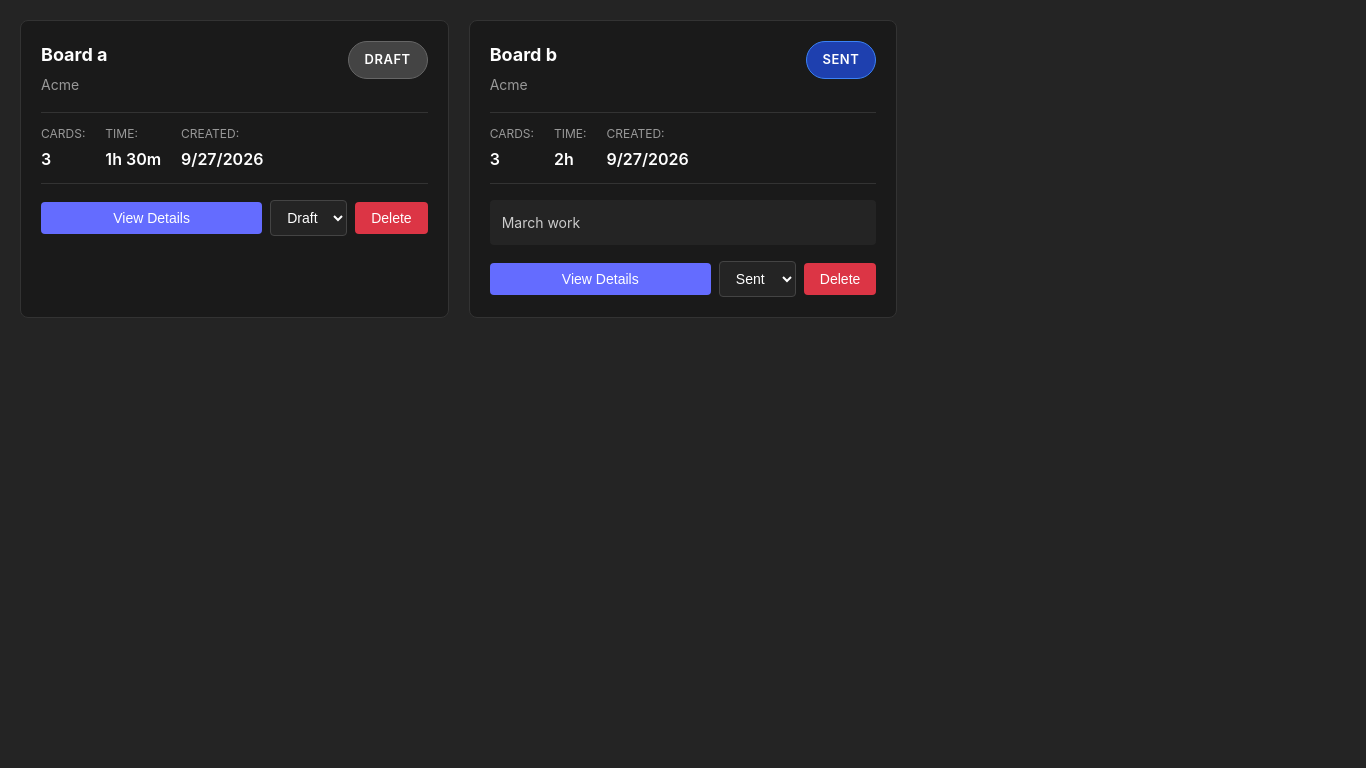
Test: InvoiceList › keeps the invoice when deletion is cancelled
Click the button "Delete" below "1h 30m" at coordinates (391, 218), box 355,202 -> 428,234
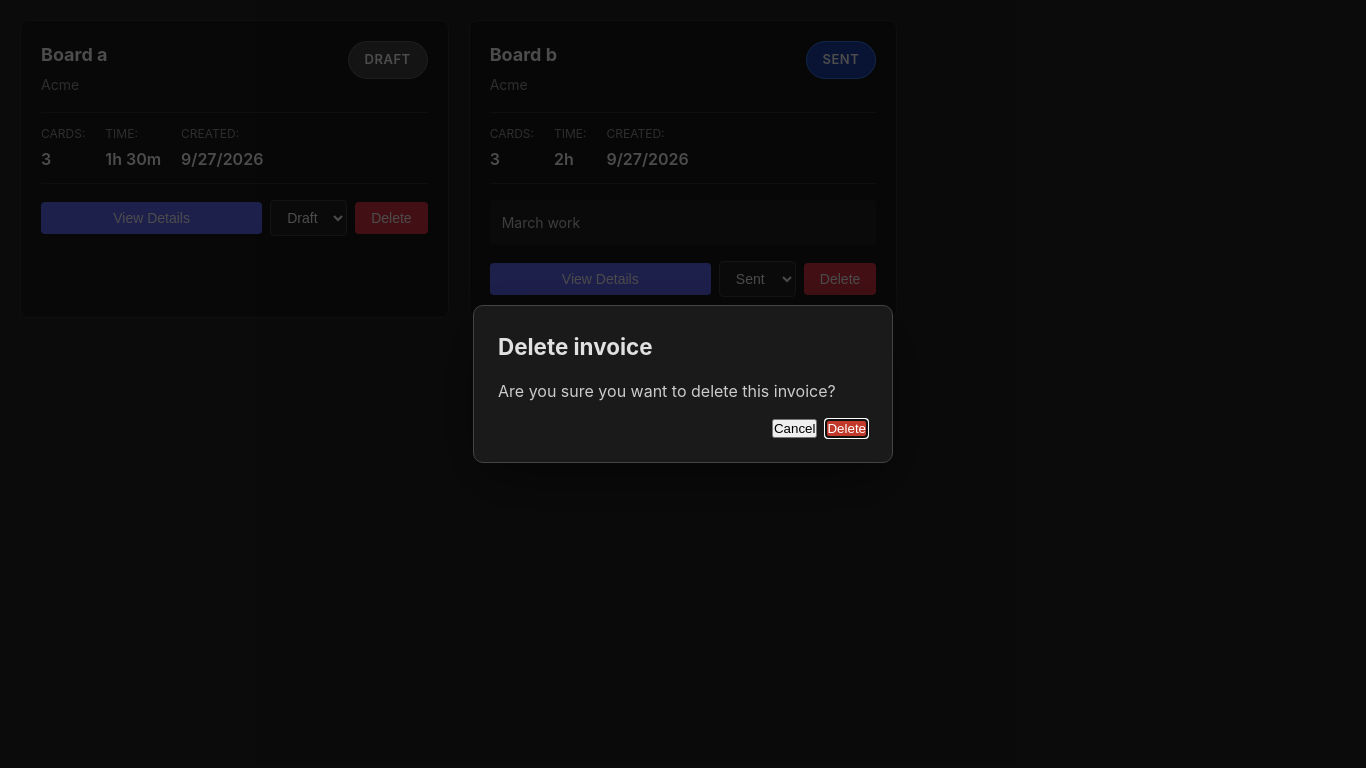
Click the button "Cancel" at coordinates (795, 429), box 772,419 -> 818,438
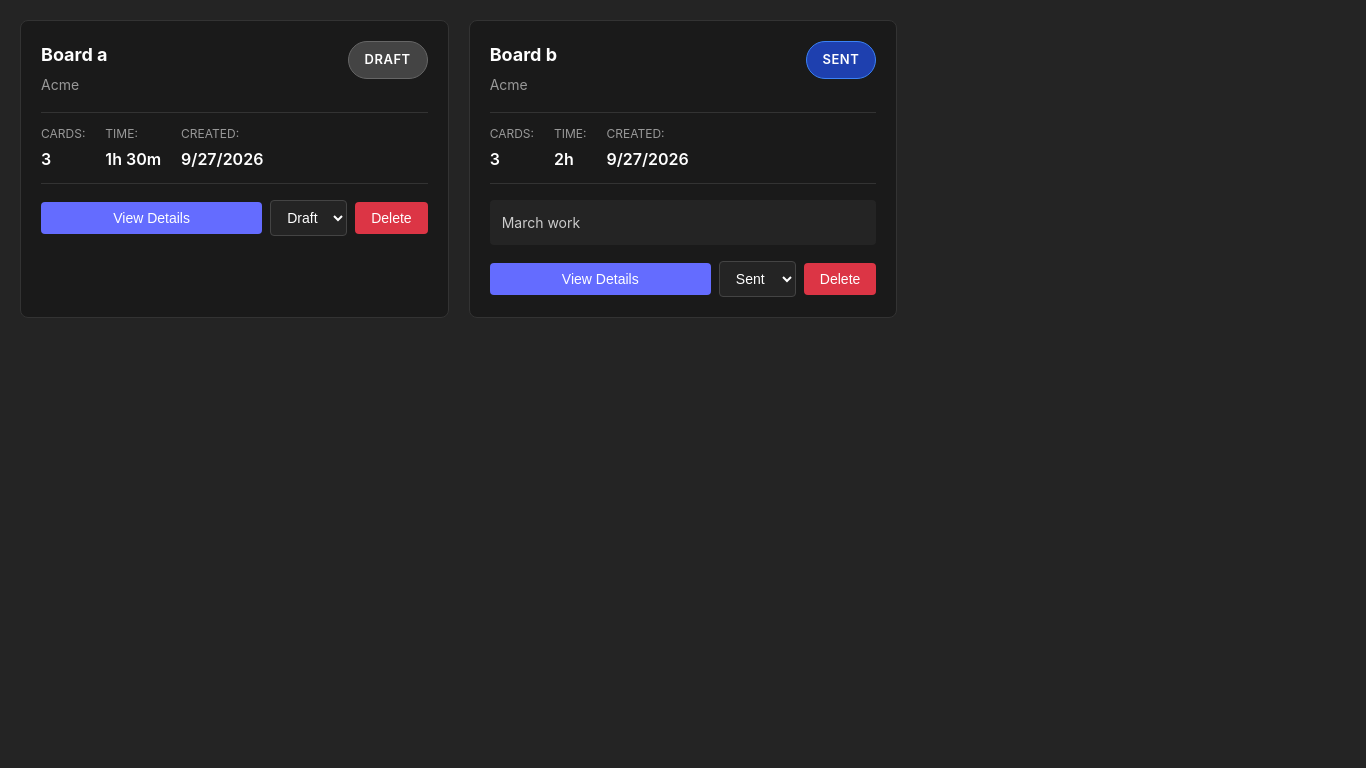
Expected: the dialog is gone
